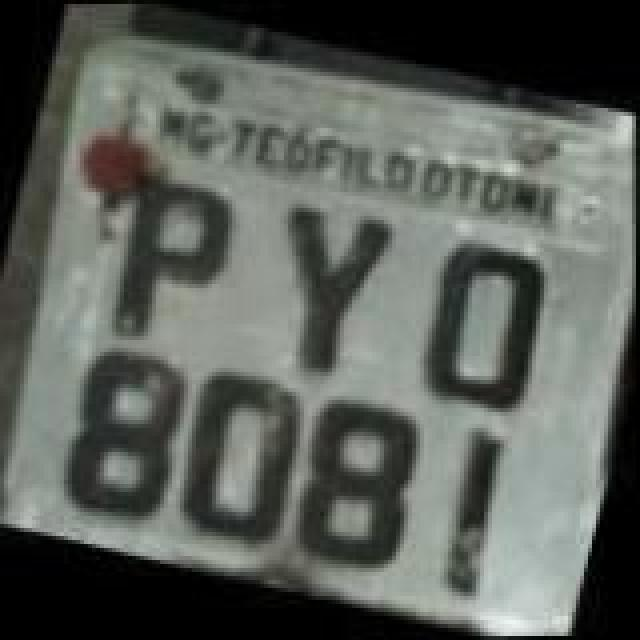1: (422, 432, 526, 604)
8: (40, 336, 208, 536), (280, 386, 440, 582)
O: (400, 224, 568, 428), (160, 360, 328, 556)
P: (92, 166, 248, 358)
Y: (244, 190, 404, 386)
